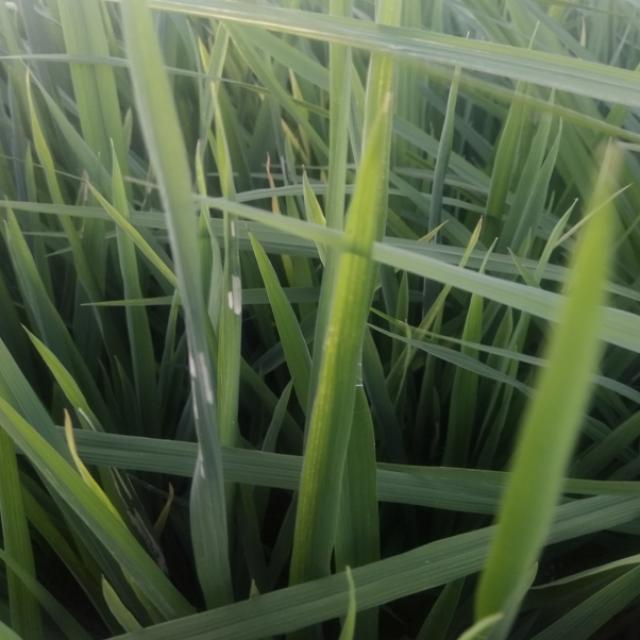brown plant hopper: (103, 456, 188, 586), (183, 345, 225, 488), (218, 267, 248, 320), (76, 403, 112, 439), (226, 219, 244, 242)
